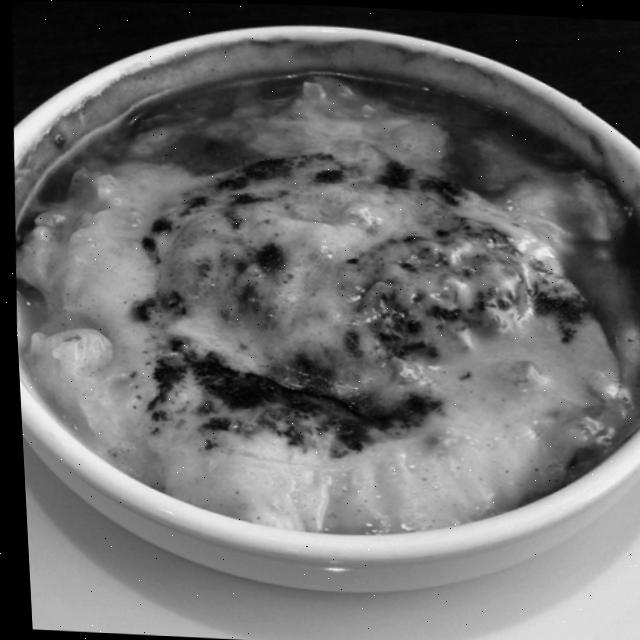米饭主食: (5, 28, 640, 574)
